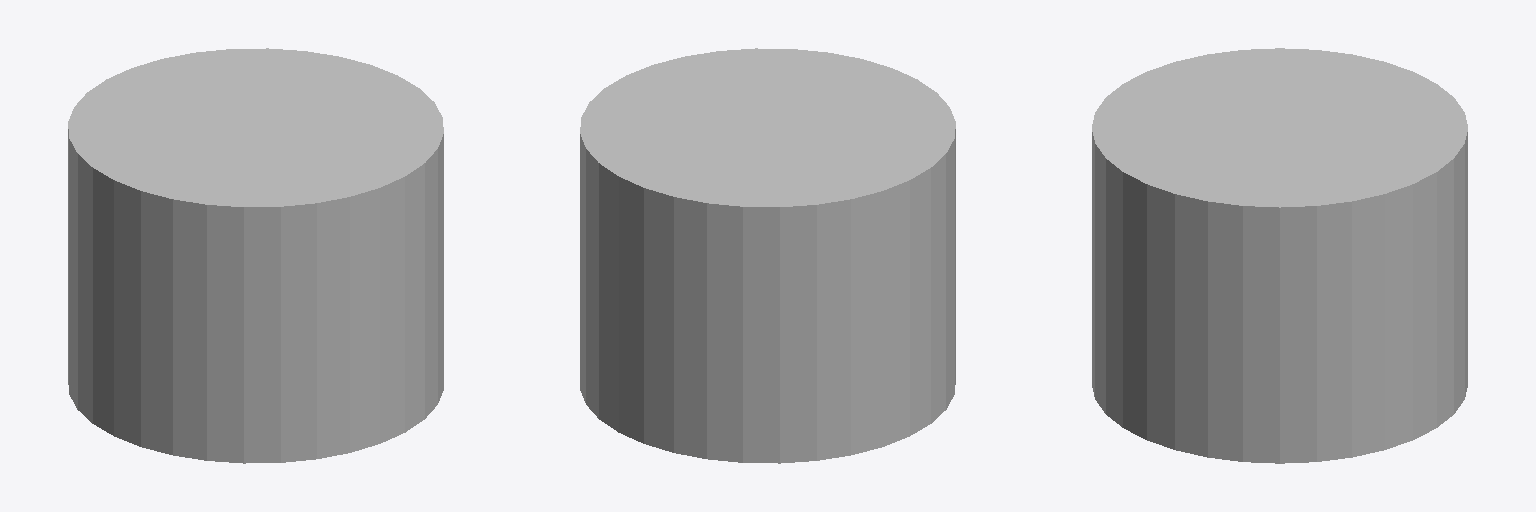
The model's file is environmentSimple.obj.
The picture shows the model from 3 angles: view 1: azimuth 30°, elevation 25°; view 2: azimuth 150°, elevation 25°; view 3: azimuth 270°, elevation 25°; orthographic projection.
Visible parts, largest first — view 1: Cylinder; view 2: Cylinder; view 3: Cylinder.
Boxes of the visible parts, box(x1,y1,x2,y2) form: Cylinder: box(68, 48, 443, 463); Cylinder: box(580, 48, 955, 463); Cylinder: box(1092, 48, 1467, 463).
Bounding box in the file's own units: 8 × 6 × 8.